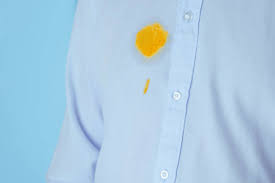lipstick: (133, 25, 165, 53), (142, 78, 151, 94)
